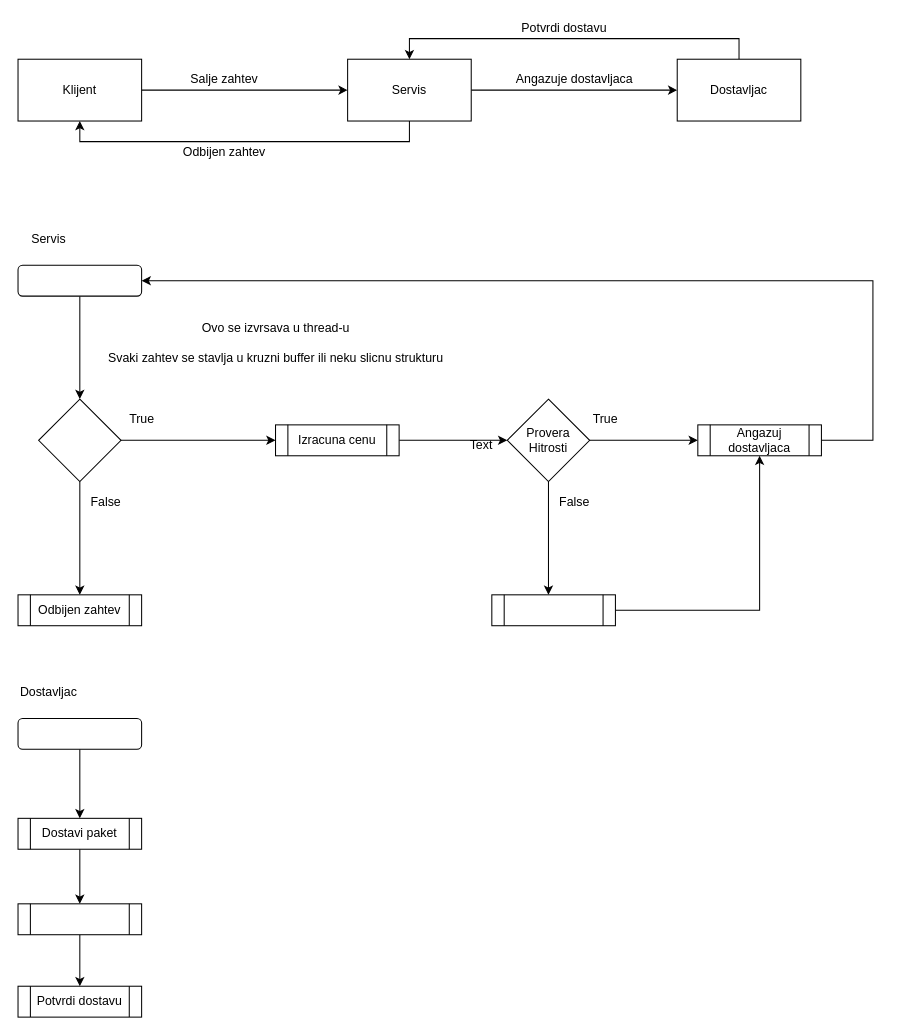
Image size: 899x1035. Some labels were removed from this diagram. The shapes that lost their labels are listed below. From the top down, each one's centre as x and y in pixels, then its label:
At pixel 79 280: "Zahtev od klijenta".
At pixel 79 440: "Proveri stanje".
At pixel 553 610: "Povecaj broj dostavljaca".
At pixel 79 733: "Zahtev od servisa".
At pixel 79 919: "Sacekaj potpis".
